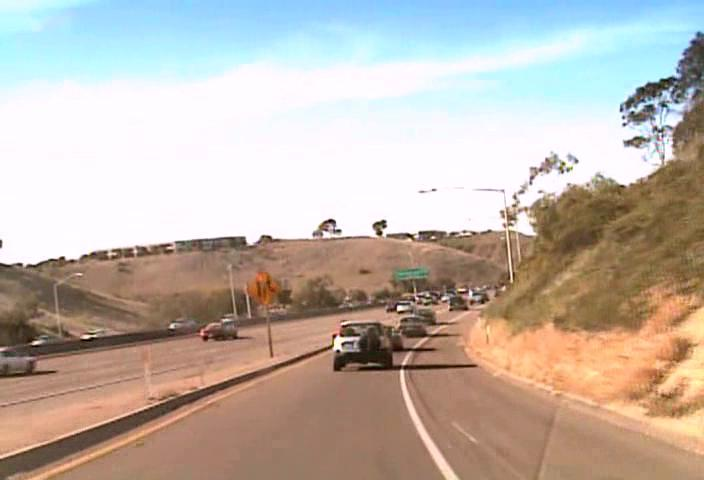addedLane: (247, 269, 282, 306)
